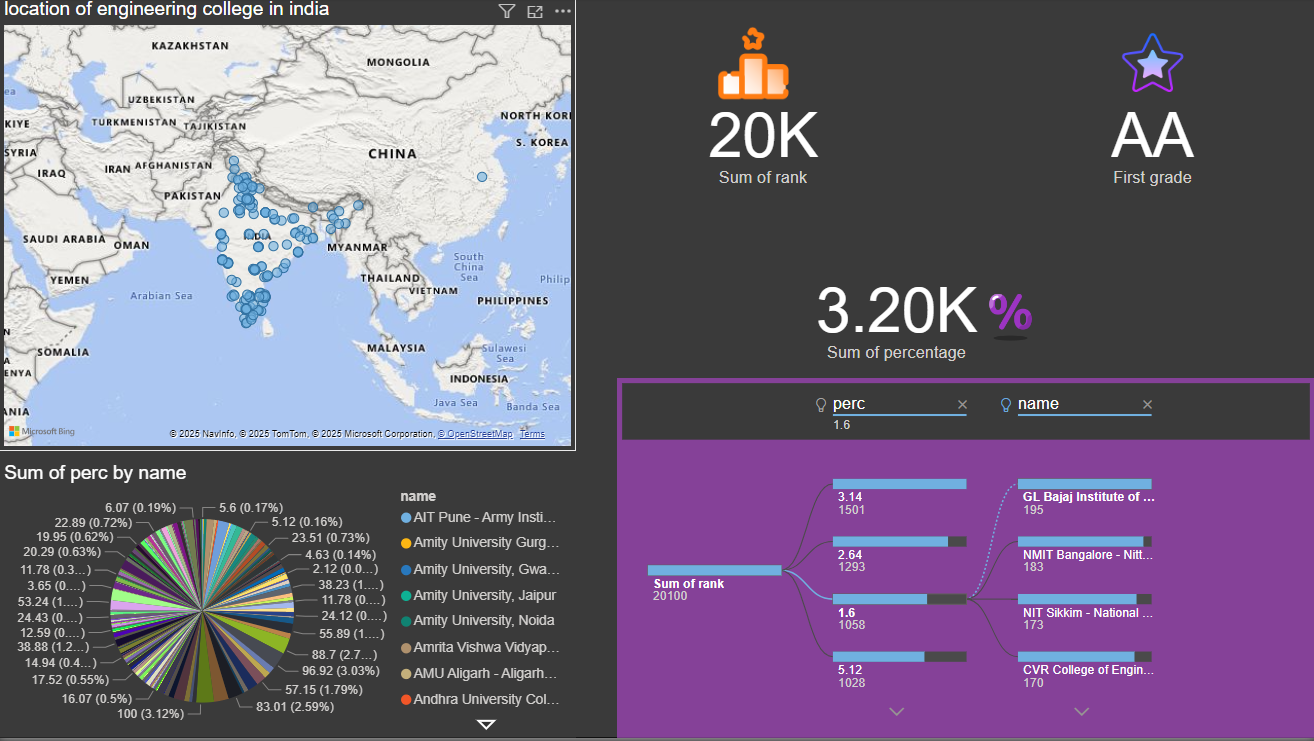

What the dashboard file says about the page in this screenshot:
{"tool":"powerbi","page":{"name":"Page 1","canvas":[1280,720],"ordinal":0},"visuals":[{"type":"map","fields":{"Category":["200_top_Engineering_Colleges_india.name"]},"box":[0,0,561.2,440.6],"z":0},{"type":"pieChart","fields":{"Y":["Sum(200_top_Engineering_Colleges_india.perc)"],"Series":["200_top_Engineering_Colleges_india.name"]},"box":[0,451.3,561.2,268.4],"z":1000},{"type":"card","fields":{"Values":["Sum(200_top_Engineering_Colleges_india.rank)"]},"box":[593.3,0,299.6,275.3],"z":2000},{"type":"card","fields":{"Values":["Min(200_top_Engineering_Colleges_india.grade)"]},"box":[963.9,0,316.1,275.3],"z":3000},{"type":"card","fields":{"Values":["Sum(200_top_Engineering_Colleges_india.perc)"]},"box":[724.6,185.8,296.7,243.2],"z":4000},{"type":"decompositionTreeVisual","fields":{"ExplainBy":["200_top_Engineering_Colleges_india.perc","200_top_Engineering_Colleges_india.name"],"Analyze":["Sum(200_top_Engineering_Colleges_india.rank)"]},"box":[601.1,369.6,678.9,350.2],"z":5000},{"type":"image","box":[957.1,266.5,73.9,72],"z":6000},{"type":"image","box":[1080.6,21.4,82.7,82.7],"z":7000},{"type":"image","box":[686.7,16.5,94.3,92.4],"z":7001}]}

Visuals, with their boxes in screenshot pixels (x1, y1, x2, y2), scaled from the page's 1280x720 canvas onto the 1314x741 screenshot:
map - 200_top_Engineering_Colleges_india.name: Rect(0, 0, 576, 453)
pieChart - Sum(200_top_Engineering_Colleges_india.perc) x 200_top_Engineering_Colleges_india.name: Rect(0, 464, 576, 740)
card - Sum(200_top_Engineering_Colleges_india.rank): Rect(609, 0, 917, 283)
card - Min(200_top_Engineering_Colleges_india.grade): Rect(990, 0, 1313, 283)
card - Sum(200_top_Engineering_Colleges_india.perc): Rect(744, 191, 1048, 442)
decompositionTreeVisual - 200_top_Engineering_Colleges_india.perc x 200_top_Engineering_Colleges_india.name: Rect(617, 380, 1313, 740)
image: Rect(983, 274, 1058, 348)
image: Rect(1109, 22, 1194, 107)
image: Rect(705, 17, 802, 112)
